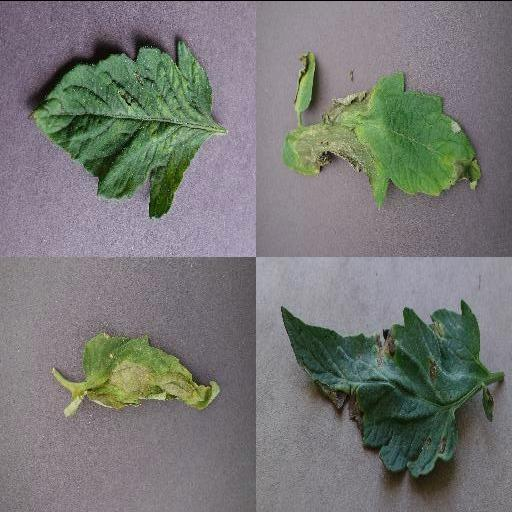Early Blight: (279, 297, 481, 483)
Late Blight: (281, 71, 483, 215), (82, 331, 224, 411), (290, 50, 322, 114)
Mosaic Virus: (29, 36, 215, 220)
